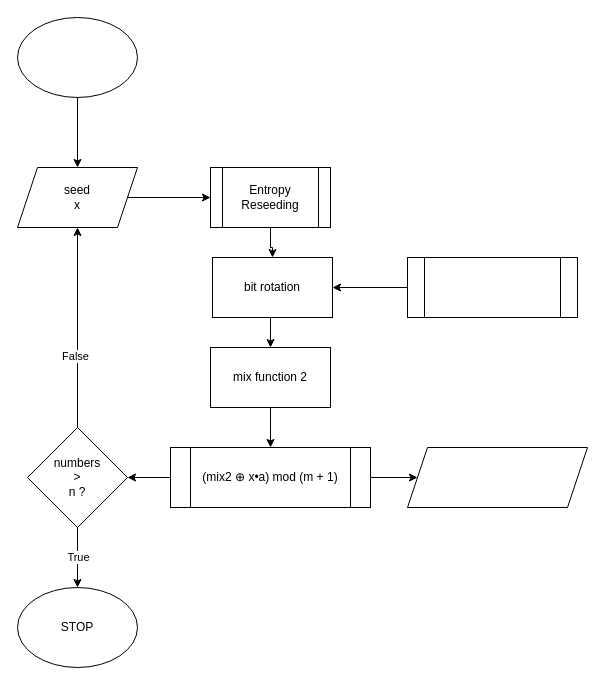
Image size: 605x685. Some labels were removed from this diagram. The centre of each missing label's shape, as x and y in pixels:
"Chaos Map Mixing" goes at (492,287).
"Generated Sequence" goes at (497,477).
"START" goes at (77,57).
